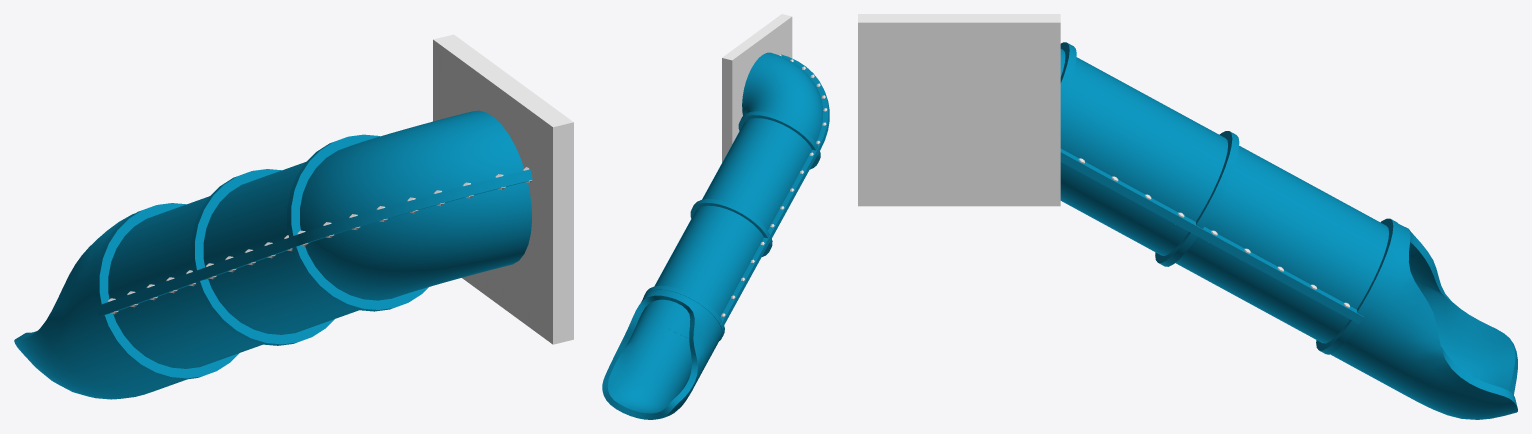
File: SWIS-5.52c52c4c.glb
The picture shows the model from 3 angles, left to right: view 1: azimuth 30°, elevation 25°; view 2: azimuth 150°, elevation 25°; view 3: azimuth 270°, elevation 25°; orthographic projection. The views are drawn at different scales.
Parts seen in each view (by area): view 1: Circle008,_colorize_, joint_c,1,6, Circle008_1; view 2: Circle008,_colorize_, joint_c,1,6, Circle008_1; view 3: Circle008,_colorize_, joint_c,1,6.
Part boxes in pixels (x1,y1,x2,y2): Circle008,_colorize_: [14, 110, 532, 399]; joint_c,1,6: [433, 34, 573, 344]; Circle008_1: [107, 167, 531, 314]; Circle008,_colorize_: [602, 52, 829, 419]; joint_c,1,6: [722, 14, 792, 162]; Circle008_1: [721, 54, 827, 316]; Circle008,_colorize_: [1060, 42, 1517, 419]; joint_c,1,6: [858, 14, 1060, 206].
Bounding box in the file's own units: 0.8829 × 2.35 × 3.26.
